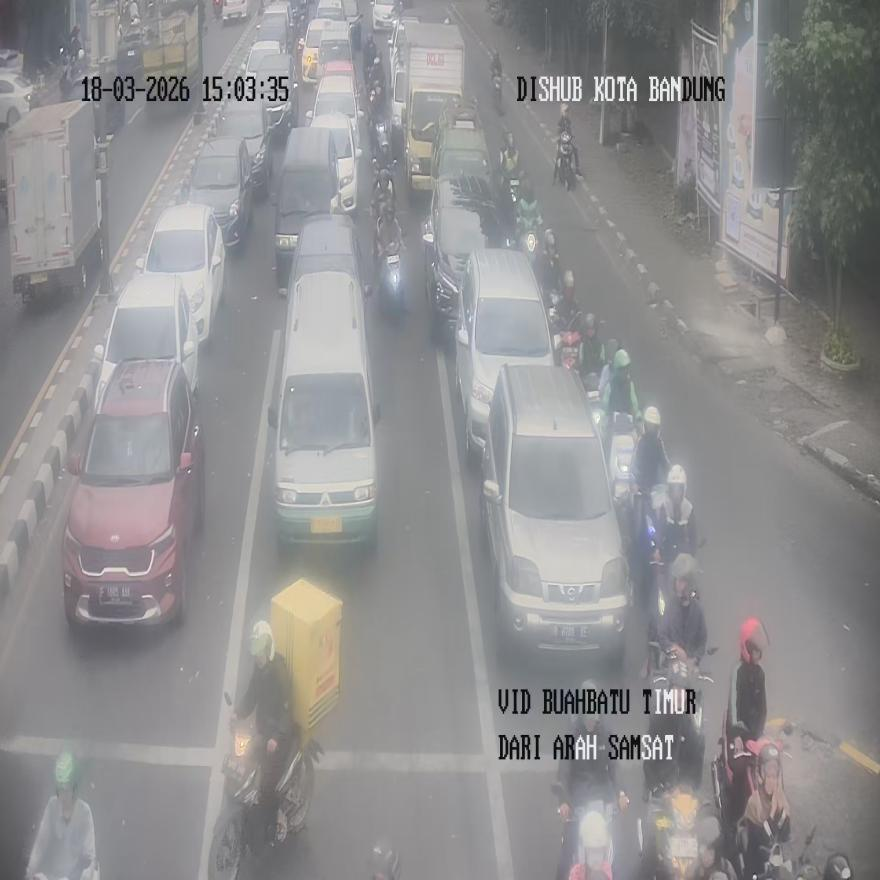Motor: (480, 363, 630, 662), (62, 358, 204, 628), (268, 215, 380, 544), (455, 247, 557, 459), (5, 102, 108, 304), (95, 270, 198, 410), (136, 202, 225, 344)
Truk: (210, 693, 322, 879), (643, 644, 716, 802), (554, 783, 638, 880), (640, 783, 702, 880), (548, 294, 583, 371), (379, 244, 405, 316), (515, 202, 542, 262), (368, 838, 401, 880), (59, 44, 84, 99), (554, 134, 578, 190), (489, 49, 503, 112)
